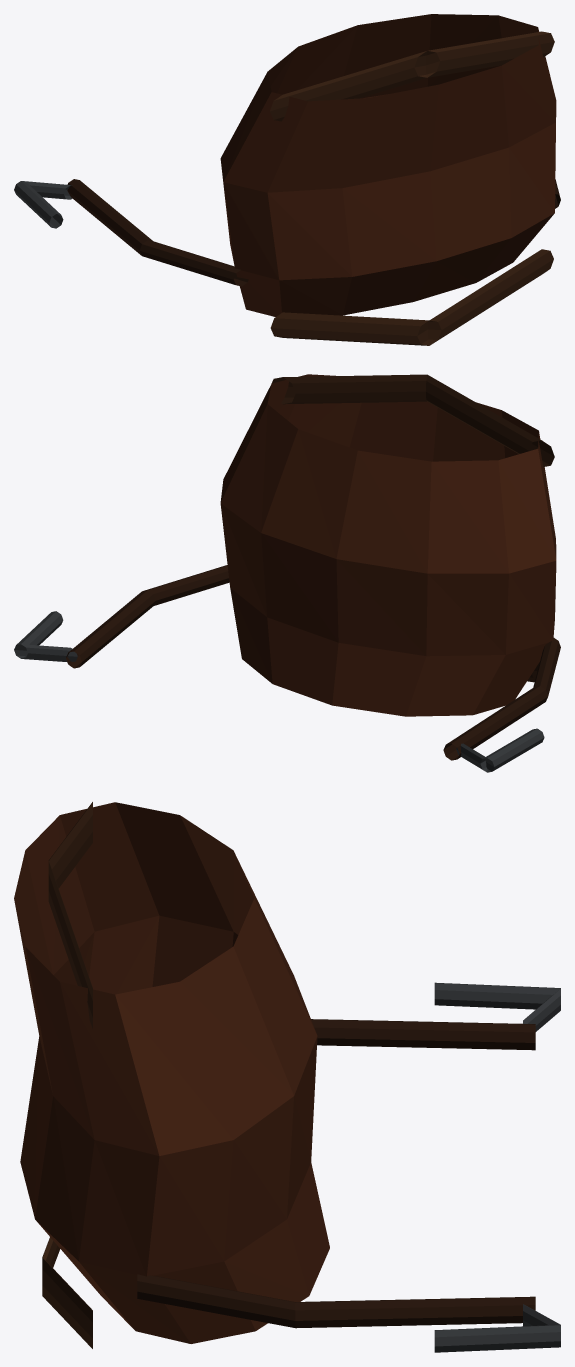
Rendered from SM_Saddle1348_LOD1.obj.
The picture shows the model from 3 angles, top to bottom: view 1: azimuth 30°, elevation 25°; view 2: azimuth 150°, elevation 25°; view 3: azimuth 270°, elevation 25°; orthographic projection. The views are drawn at different scales.
Bounding box in the file's own units: 1.34 × 0.758 × 0.865.
